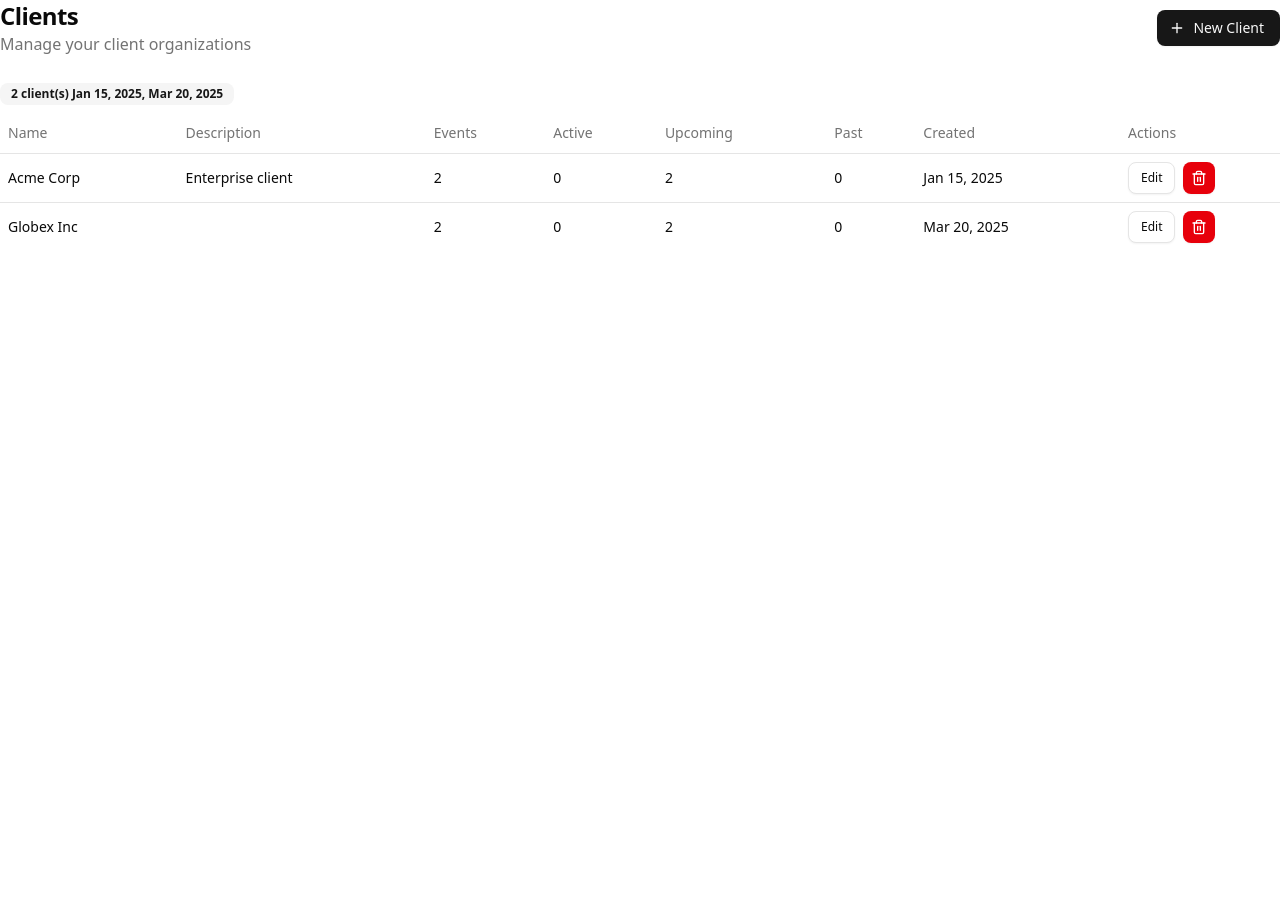
it: ClientsPage › shows delete confirmation when clicking Delete on a client row
Step 1. Click the button named "delete" in the row of "Acme Corp" → (1200, 178), box [1184, 162, 1216, 194]
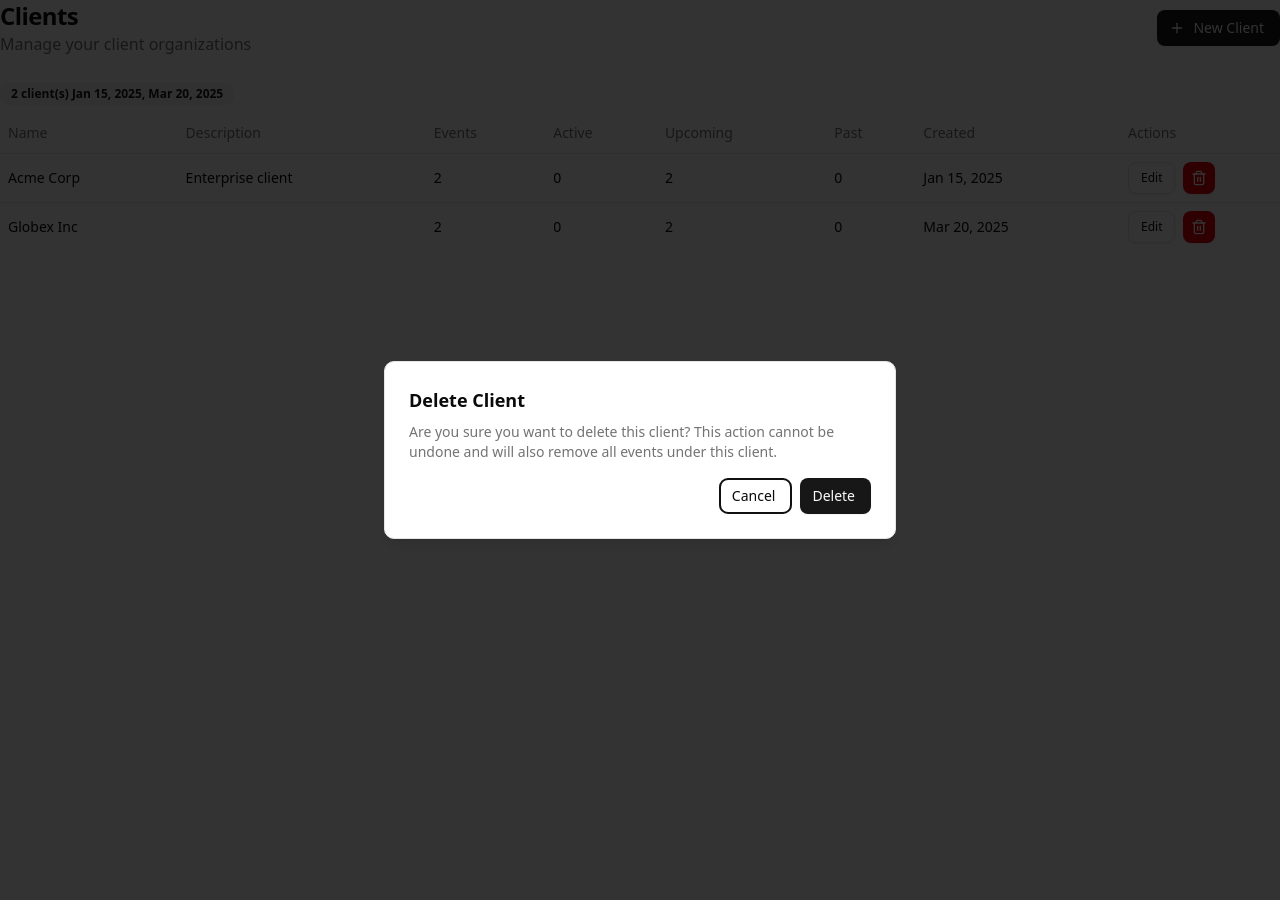
Check: the heading "Delete Client" is shown, box [409, 388, 525, 412]
